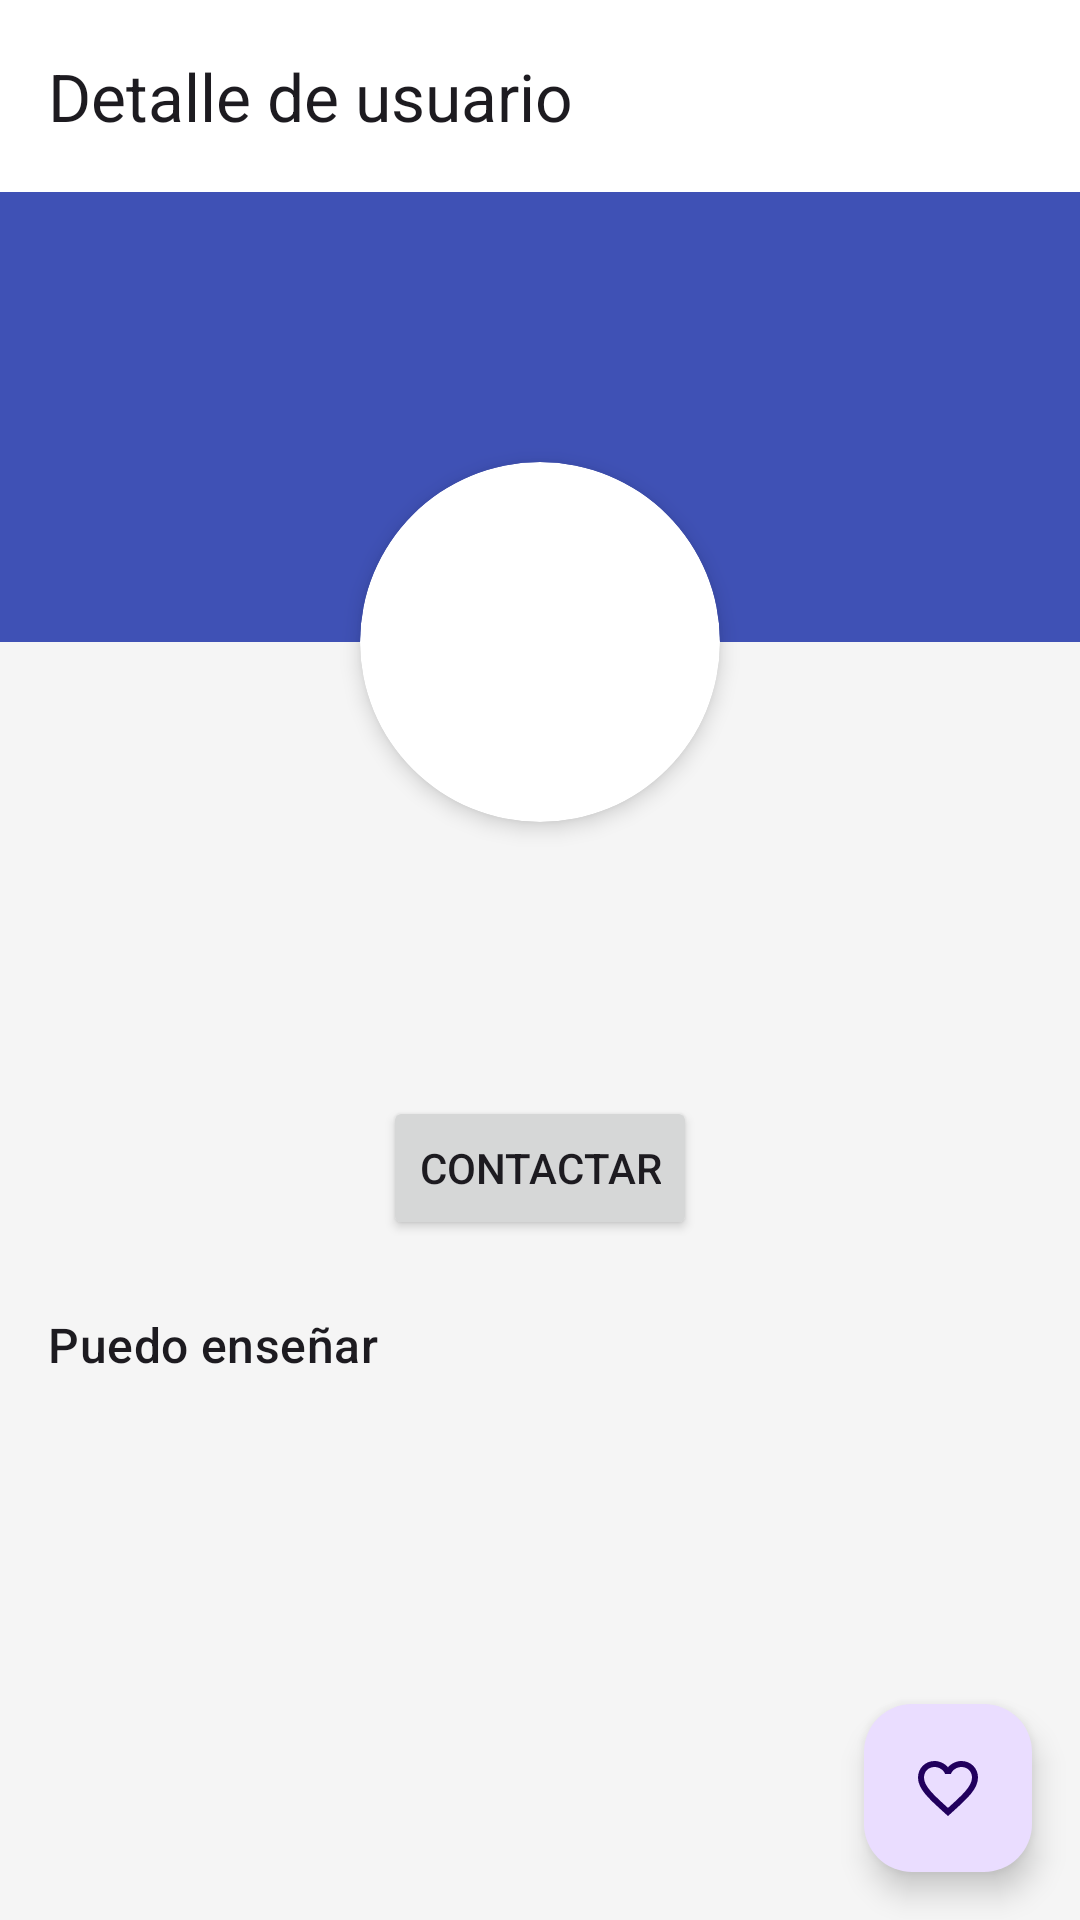

Named icons in this screenshot (1080 x 1920) and their centers, point (x, y):
Añadir a favoritos: point (948, 1788)
